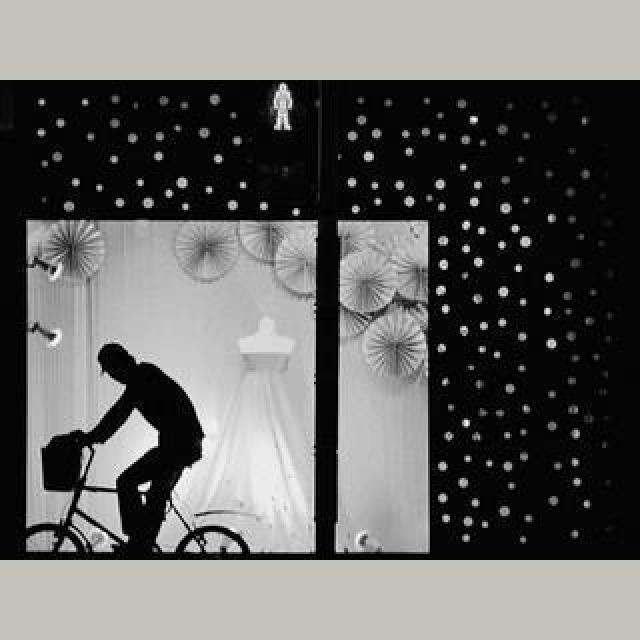MC-Bike: (60, 342, 208, 560)
Person: (21, 445, 245, 559)
